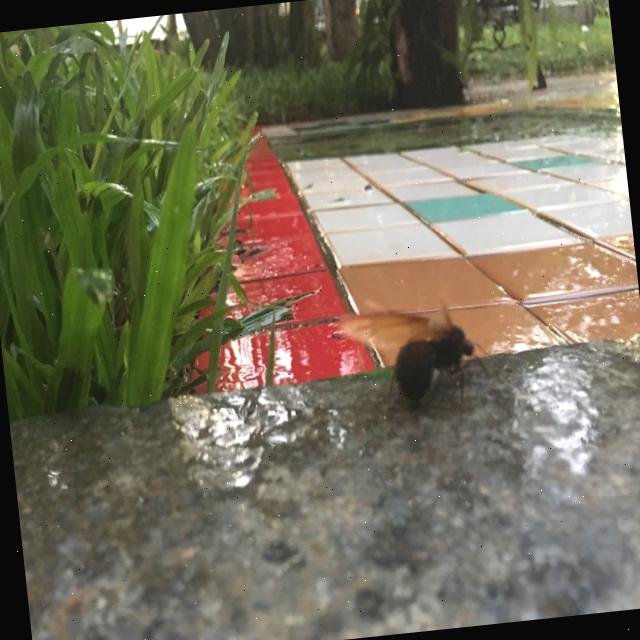Alive-Female-Alate: (334, 281, 508, 431)
